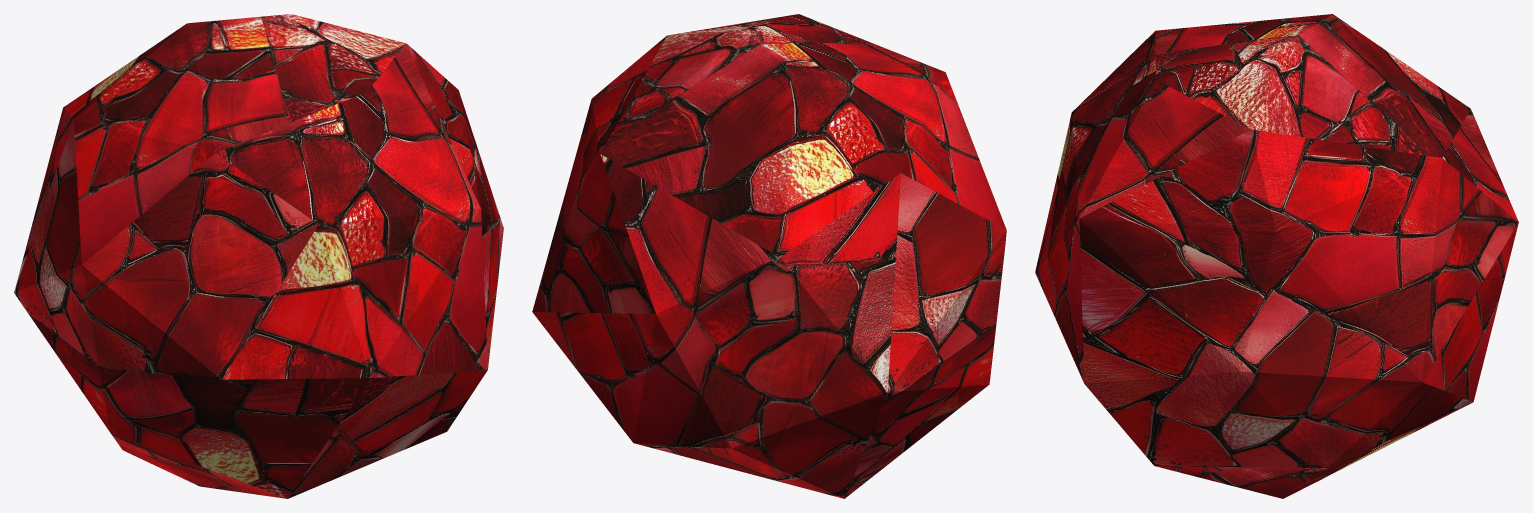
Rendered from star1RedCompressed.glb.
The picture shows the model from 3 angles, left to right: view 1: azimuth 30°, elevation 25°; view 2: azimuth 150°, elevation 25°; view 3: azimuth 270°, elevation 25°; orthographic projection. The views are drawn at different scales.
Visible parts, largest first — view 1: star1; view 2: star1; view 3: star1.
Part boxes in pixels (<box>): star1: <box>14,14,503,498</box>; star1: <box>532,14,1006,498</box>; star1: <box>1035,14,1518,498</box>.
Size of the model in its own units: 1 by 1 by 1.
Materials: 1 (1 with a texture image).
